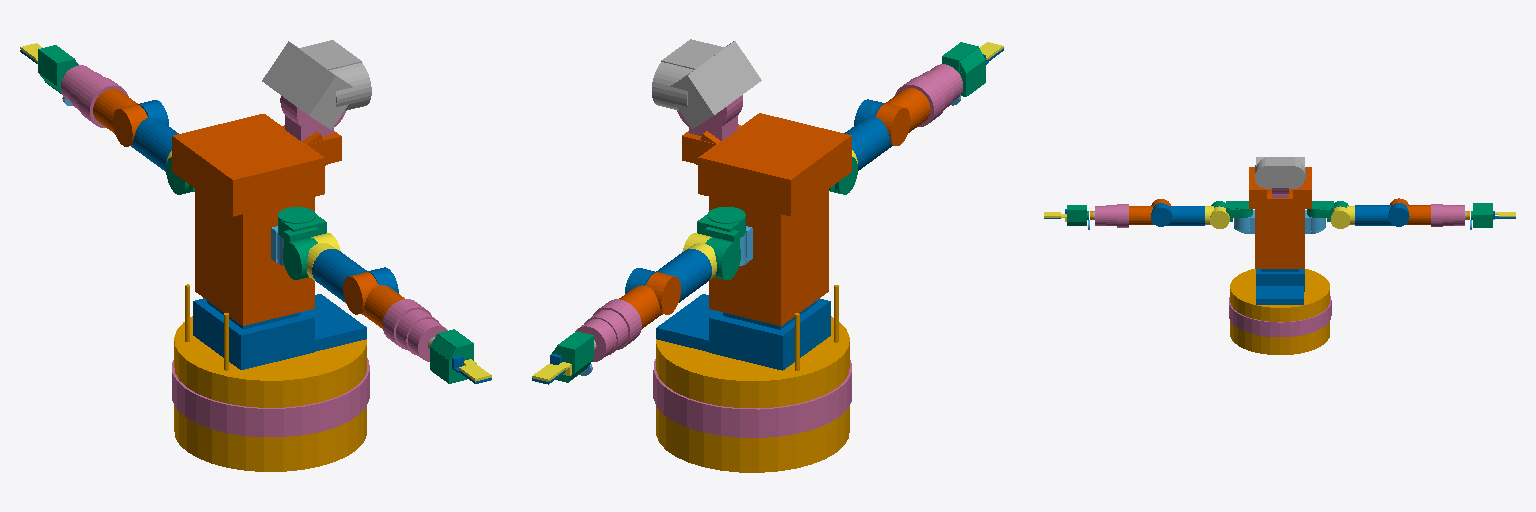
--- What the picture shows (computed from the rendered views, not written in the file) ---
3 views of the same robot in one strip: view 1: azimuth 30°, elevation 25°; view 2: azimuth 150°, elevation 25°; view 3: azimuth 270°, elevation 25° (orthographic).
Model TIAGo++ with 89 links and 88 joints (16 revolute, 10 continuous, 5 prismatic, 57 fixed), rooted at base_link, posed every joint at zero.
Links seen in each view (by area): view 1: torso_lift_link, base_link, Torso, head_2_link, base_cover_link, arm_right_5_link, TIAGo_right_arm, arm_right_4_link, arm_left_4_link, arm_right_3_link, arm_left_3_link, arm_left_5_link (+4 smaller); view 2: torso_lift_link, base_link, Torso, head_2_link, base_cover_link, TIAGo_left_arm, arm_left_5_link, arm_left_4_link, arm_left_3_link, arm_right_4_link, arm_right_3_link, arm_right_5_link (+4 smaller); view 3: base_link, torso_lift_link, Torso, base_cover_link, head_2_link, arm_left_3_link, arm_right_3_link, arm_right_5_link, arm_left_5_link, arm_left_4_link.
Boxes of the visible links, <box> form: torso_lift_link: <box>172,114,341,325</box>; base_link: <box>174,284,366,471</box>; Torso: <box>193,294,366,369</box>; head_2_link: <box>262,40,371,129</box>; base_cover_link: <box>172,358,369,436</box>; arm_right_5_link: <box>383,299,447,361</box>; TIAGo_right_arm: <box>278,207,326,279</box>; arm_right_4_link: <box>343,272,404,328</box>; arm_left_4_link: <box>93,89,147,146</box>; arm_right_3_link: <box>312,249,398,314</box>; arm_left_3_link: <box>131,100,178,171</box>; arm_left_5_link: <box>60,65,128,127</box>; torso_lift_link: <box>682,113,851,325</box>; base_link: <box>656,285,849,472</box>; Torso: <box>656,294,830,370</box>; head_2_link: <box>652,39,761,128</box>; base_cover_link: <box>653,359,851,437</box>; TIAGo_left_arm: <box>697,207,745,279</box>; arm_left_5_link: <box>575,299,641,361</box>; arm_left_4_link: <box>619,272,680,329</box>; arm_left_3_link: <box>625,249,711,314</box>; arm_right_4_link: <box>876,88,930,145</box>; arm_right_3_link: <box>844,99,892,170</box>; arm_right_5_link: <box>895,64,962,126</box>; base_link: <box>1230,269,1329,354</box>; torso_lift_link: <box>1249,167,1311,268</box>; Torso: <box>1256,269,1304,304</box>; base_cover_link: <box>1229,296,1331,336</box>; head_2_link: <box>1255,157,1305,188</box>; arm_left_3_link: <box>1355,203,1409,226</box>; arm_right_3_link: <box>1151,203,1204,226</box>; arm_right_5_link: <box>1095,204,1128,227</box>; arm_left_5_link: <box>1431,204,1464,226</box>; arm_left_4_link: <box>1390,198,1430,224</box>.
Bounding box of the posed robot: 0.544 × 2.49 × 1.12 m (x, y, z).
Geometry: primitives only (box / cylinder / sphere), no mesh files.

The robot description file, URDF, robot "TIAGo++":
<?xml version="1.0"?>
<robot name="TIAGo++" xmlns:xacro="http://ros.org/wiki/xacro">
  <link name="base_link">
    <visual>
      <origin xyz="0 0 0.06" rpy="0 0 0"/>
      <geometry>
        <cylinder radius="0.265" length="0.276"/>
      </geometry>
    </visual>
    <collision>
      <origin xyz="0 0 0.06" rpy="0 0 0"/>
      <geometry>
        <cylinder radius="0.265" length="0.276"/>
      </geometry>
    </collision>
    <visual>
      <origin xyz="-0.201 0.1062 0.28" rpy="0 0 0"/>
      <geometry>
        <cylinder radius="0.007" length="0.173"/>
      </geometry>
    </visual>
    <collision>
      <origin xyz="-0.201 0.1062 0.28" rpy="0 0 0"/>
      <geometry>
        <cylinder radius="0.007" length="0.173"/>
      </geometry>
    </collision>
    <visual>
      <origin xyz="-0.201 -0.1062 0.28" rpy="0 0 0"/>
      <geometry>
        <cylinder radius="0.007" length="0.173"/>
      </geometry>
    </visual>
    <collision>
      <origin xyz="-0.201 -0.1062 0.28" rpy="0 0 0"/>
      <geometry>
        <cylinder radius="0.007" length="0.173"/>
      </geometry>
    </collision>
  </link>
  <joint name="CASTER_WHEEL_BACK_LEFT_JOINT" type="continuous">
    <parent link="base_link"/>
    <child link="caster_back_left_1_link"/>
    <axis xyz="0 0 1"/>
    <origin xyz="-0.1735 0.102 -0.0335" rpy="0 0 0"/>
  </joint>
  <link name="caster_back_left_1_link">
    <visual>
      <origin xyz="-0.003 0 -0.022" rpy="0 0 0"/>
      <geometry>
        <box size="0.036 0.032 0.04"/>
      </geometry>
    </visual>
    <collision>
      <origin xyz="-0.003 0 -0.022" rpy="0 0 0"/>
      <geometry>
        <box size="0.036 0.032 0.04"/>
      </geometry>
    </collision>
  </link>
  <joint name="SMALL_WHEEL_JOINT" type="continuous">
    <parent link="caster_back_left_1_link"/>
    <child link="caster_back_left_2_link"/>
    <axis xyz="0 -0.000004 1"/>
    <origin xyz="-0.016 0 -0.04" rpy="-1.5708 0 0"/>
  </joint>
  <link name="caster_back_left_2_link">
    <visual>
      <origin xyz="0 0 0" rpy="0 0 0"/>
      <geometry>
        <cylinder radius="0.025" length="0.015"/>
      </geometry>
    </visual>
    <collision>
      <origin xyz="0 0 0" rpy="0 0 0"/>
      <geometry>
        <cylinder radius="0.025" length="0.015"/>
      </geometry>
    </collision>
  </link>
  <joint name="CASTER_WHEEL_BACK_RIGHT_JOINT" type="continuous">
    <parent link="base_link"/>
    <child link="caster_back_right_1_link"/>
    <axis xyz="0 0 1"/>
    <origin xyz="-0.1735 -0.102 -0.0335" rpy="0 0 0"/>
  </joint>
  <link name="caster_back_right_1_link">
    <visual>
      <origin xyz="-0.003 0 -0.022" rpy="0 0 0"/>
      <geometry>
        <box size="0.036 0.032 0.04"/>
      </geometry>
    </visual>
    <collision>
      <origin xyz="-0.003 0 -0.022" rpy="0 0 0"/>
      <geometry>
        <box size="0.036 0.032 0.04"/>
      </geometry>
    </collision>
  </link>
  <joint name="SMALL_WHEEL_JOINT_0" type="continuous">
    <parent link="caster_back_right_1_link"/>
    <child link="caster_back_right_2_link"/>
    <axis xyz="0 -0.000004 1"/>
    <origin xyz="-0.016 0 -0.04" rpy="-1.5708 0 0"/>
  </joint>
  <link name="caster_back_right_2_link">
    <visual>
      <origin xyz="0 0 0" rpy="0 0 0"/>
      <geometry>
        <cylinder radius="0.025" length="0.015"/>
      </geometry>
    </visual>
    <collision>
      <origin xyz="0 0 0" rpy="0 0 0"/>
      <geometry>
        <cylinder radius="0.025" length="0.015"/>
      </geometry>
    </collision>
  </link>
  <joint name="CASTER_WHEEL_FRONT_LEFT_JOINT" type="continuous">
    <parent link="base_link"/>
    <child link="caster_front_left_1_link"/>
    <axis xyz="0 0 1"/>
    <origin xyz="0.1695 0.102 -0.0335" rpy="0 0 0"/>
  </joint>
  <link name="caster_front_left_1_link">
    <visual>
      <origin xyz="-0.003 0 -0.022" rpy="0 0 0"/>
      <geometry>
        <box size="0.036 0.032 0.04"/>
      </geometry>
    </visual>
    <collision>
      <origin xyz="-0.003 0 -0.022" rpy="0 0 0"/>
      <geometry>
        <box size="0.036 0.032 0.04"/>
      </geometry>
    </collision>
  </link>
  <joint name="SMALL_WHEEL_JOINT_1" type="continuous">
    <parent link="caster_front_left_1_link"/>
    <child link="caster_front_left_2_link"/>
    <axis xyz="0 -0.000004 1"/>
    <origin xyz="-0.016 0 -0.04" rpy="-1.5708 0 0"/>
  </joint>
  <link name="caster_front_left_2_link">
    <visual>
      <origin xyz="0 0 0" rpy="0 0 0"/>
      <geometry>
        <cylinder radius="0.025" length="0.015"/>
      </geometry>
    </visual>
    <collision>
      <origin xyz="0 0 0" rpy="0 0 0"/>
      <geometry>
        <cylinder radius="0.025" length="0.015"/>
      </geometry>
    </collision>
  </link>
  <joint name="CASTER_WHEEL_FRONT_RIGHT_JOINT" type="continuous">
    <parent link="base_link"/>
    <child link="caster_front_right_1_link"/>
    <axis xyz="0 0 1"/>
    <origin xyz="0.1695 -0.102 -0.0335" rpy="0 0 0"/>
  </joint>
  <link name="caster_front_right_1_link">
    <visual>
      <origin xyz="-0.003 0 -0.022" rpy="0 0 0"/>
      <geometry>
        <box size="0.036 0.032 0.04"/>
      </geometry>
    </visual>
    <collision>
      <origin xyz="-0.003 0 -0.022" rpy="0 0 0"/>
      <geometry>
        <box size="0.036 0.032 0.04"/>
      </geometry>
    </collision>
  </link>
  <joint name="SMALL_WHEEL_JOINT_2" type="continuous">
    <parent link="caster_front_right_1_link"/>
    <child link="caster_front_right_2_link"/>
    <axis xyz="0 -0.000004 1"/>
    <origin xyz="-0.016 0 -0.04" rpy="-1.5708 0 0"/>
  </joint>
  <link name="caster_front_right_2_link">
    <visual>
      <origin xyz="0 0 0" rpy="0 0 0"/>
      <geometry>
        <cylinder radius="0.025" length="0.015"/>
      </geometry>
    </visual>
    <collision>
      <origin xyz="0 0 0" rpy="0 0 0"/>
      <geometry>
        <cylinder radius="0.025" length="0.015"/>
      </geometry>
    </collision>
  </link>
  <joint name="wheel_left_joint" type="continuous">
    <parent link="base_link"/>
    <child link="wheel_left_link"/>
    <axis xyz="0 -0.000004 -1"/>
    <limit effort="10" velocity="10.1523"/>
    <origin xyz="0 0.2022 0" rpy="1.5708 0 0"/>
  </joint>
  <link name="wheel_left_link">
    <visual>
      <origin xyz="0 0 0.0002" rpy="0 0 0"/>
      <geometry>
        <cylinder radius="0.0985" length="0.04"/>
      </geometry>
    </visual>
    <collision>
      <origin xyz="0 0 0.0002" rpy="0 0 0"/>
      <geometry>
        <cylinder radius="0.0985" length="0.04"/>
      </geometry>
    </collision>
  </link>
  <joint name="wheel_right_joint" type="continuous">
    <parent link="base_link"/>
    <child link="wheel_right_link"/>
    <axis xyz="0 -0.000004 -1"/>
    <limit effort="10" velocity="10.1523"/>
    <origin xyz="0 -0.2022 0.0002" rpy="1.5708 0 0"/>
  </joint>
  <link name="wheel_right_link">
    <visual>
      <origin xyz="0 0 -0.0002" rpy="0 0 0"/>
      <geometry>
        <cylinder radius="0.0985" length="0.04"/>
      </geometry>
    </visual>
    <collision>
      <origin xyz="0 0 -0.0002" rpy="0 0 0"/>
      <geometry>
        <cylinder radius="0.0985" length="0.04"/>
      </geometry>
    </collision>
  </link>
  <link name="base_sonar_01_link">
  </link>
  <joint name="base_link_base_sonar_01_link_joint" type="fixed">
    <parent link="base_link"/>
    <child link="base_sonar_01_link"/>
    <origin xyz="-0.183 -0.183 0.1728" rpy="0 0 -2.356185"/>
  </joint>
  <link name="base_sonar_02_link">
  </link>
  <joint name="base_link_base_sonar_02_link_joint" type="fixed">
    <parent link="base_link"/>
    <child link="base_sonar_02_link"/>
    <origin xyz="-0.259 0 0.173" rpy="0 0 -3.141585"/>
  </joint>
  <link name="base_sonar_03_link">
  </link>
  <joint name="base_link_base_sonar_03_link_joint" type="fixed">
    <parent link="base_link"/>
    <child link="base_sonar_03_link"/>
    <origin xyz="-0.183 0.183 0.173" rpy="0 0 2.3562"/>
  </joint>
  <link name="base_cover_link">
    <visual>
      <origin xyz="0 0 0.043" rpy="0 0 0"/>
      <geometry>
        <cylinder radius="0.272" length="0.086"/>
      </geometry>
    </visual>
    <collision>
      <origin xyz="0 0 0.043" rpy="0 0 0"/>
      <geometry>
        <cylinder radius="0.272" length="0.086"/>
      </geometry>
    </collision>
  </link>
  <joint name="base_link_base_cover_link_joint" type="fixed">
    <parent link="base_link"/>
    <child link="base_cover_link"/>
    <origin xyz="0 0 0.03" rpy="0 0 0"/>
  </joint>
  <link name="base_footprint">
  </link>
  <joint name="base_link_base_footprint_joint" type="fixed">
    <parent link="base_link"/>
    <child link="base_footprint"/>
    <origin xyz="0 0 -0.095" rpy="0 0 0"/>
  </joint>
  <link name="gyro">
  </link>
  <joint name="base_link_gyro_joint" type="fixed">
    <parent link="base_link"/>
    <child link="gyro"/>
    <origin xyz="0 0 0" rpy="0 0 0"/>
  </joint>
  <link name="inertial unit">
  </link>
  <joint name="base_link_inertial unit_joint" type="fixed">
    <parent link="base_link"/>
    <child link="inertial unit"/>
    <origin xyz="0 0 0" rpy="0 0 0"/>
  </joint>
  <link name="accelerometer">
  </link>
  <joint name="base_link_accelerometer_joint" type="fixed">
    <parent link="base_link"/>
    <child link="accelerometer"/>
    <origin xyz="0 0 0" rpy="0 0 0"/>
  </joint>
  <link name="Hokuyo URG-04LX-UG01">
    <visual>
      <origin xyz="0 0 -0.018" rpy="1.570741 0.000118 -1.570741"/>
      <geometry>
        <box size="0.05 0.07 0.05"/>
      </geometry>
    </visual>
    <collision>
      <origin xyz="0 0 -0.018" rpy="1.570741 0.000118 -1.570741"/>
      <geometry>
        <box size="0.05 0.07 0.05"/>
      </geometry>
    </collision>
  </link>
  <joint name="base_link_Hokuyo URG-04LX-UG01_joint" type="fixed">
    <parent link="base_link"/>
    <child link="Hokuyo URG-04LX-UG01"/>
    <origin xyz="0.202 0 -0.004" rpy="0 0 0"/>
  </joint>
  <link name="Torso">
    <visual>
      <origin xyz="0 0 0.275" rpy="0 0 0"/>
      <geometry>
        <box size="0.18 0.2 0.55"/>
      </geometry>
    </visual>
    <collision>
      <origin xyz="0 0 0.275" rpy="0 0 0"/>
      <geometry>
        <box size="0.18 0.2 0.55"/>
      </geometry>
    </collision>
    <visual>
      <origin xyz="0.085 0 0.02" rpy="0 0 0"/>
      <geometry>
        <box size="0.4 0.254 0.04"/>
      </geometry>
    </visual>
    <collision>
      <origin xyz="0.085 0 0.02" rpy="0 0 0"/>
      <geometry>
        <box size="0.4 0.254 0.04"/>
      </geometry>
    </collision>
    <visual>
      <origin xyz="0.001 0 0.05" rpy="0 0 0"/>
      <geometry>
        <box size="0.233 0.26 0.12"/>
      </geometry>
    </visual>
    <collision>
      <origin xyz="0.001 0 0.05" rpy="0 0 0"/>
      <geometry>
        <box size="0.233 0.26 0.12"/>
      </geometry>
    </collision>
  </link>
  <joint name="base_link_Torso_joint" type="fixed">
    <parent link="base_link"/>
    <child link="Torso"/>
    <origin xyz="-0.054 0 0.193" rpy="0 0 0"/>
  </joint>
  <joint name="torso_lift_joint" type="prismatic">
    <parent link="Torso"/>
    <child link="torso_lift_link"/>
    <axis xyz="0 0 1"/>
    <origin xyz="0 0 0.6" rpy="0 0 0"/>
    <limit effort="2000" lower="0" upper="0.35" velocity="0.07"/>
  </joint>
  <link name="torso_lift_link">
    <visual>
      <origin xyz="0.164 0 -0.032" rpy="0 0 0"/>
      <geometry>
        <box size="0.15 0.138 0.074"/>
      </geometry>
    </visual>
    <collision>
      <origin xyz="0.164 0 -0.032" rpy="0 0 0"/>
      <geometry>
        <box size="0.15 0.138 0.074"/>
      </geometry>
    </collision>
    <visual>
      <origin xyz="0.1389 0 -0.0432" rpy="0 -0.43 0"/>
      <geometry>
        <box size="0.12 0.134 0.097"/>
      </geometry>
    </visual>
    <collision>
      <origin xyz="0.1389 0 -0.0432" rpy="0 -0.43 0"/>
      <geometry>
        <box size="0.12 0.134 0.097"/>
      </geometry>
    </collision>
    <visual>
      <origin xyz="-0.016 0 -0.05" rpy="0 0 0"/>
      <geometry>
        <box size="0.291 0.333 0.11"/>
      </geometry>
    </visual>
    <collision>
      <origin xyz="-0.016 0 -0.05" rpy="0 0 0"/>
      <geometry>
        <box size="0.291 0.333 0.11"/>
      </geometry>
    </collision>
    <visual>
      <origin xyz="0.003 0 -0.283" rpy="0 0 0"/>
      <geometry>
        <box size="0.228 0.263 0.358"/>
      </geometry>
    </visual>
    <collision>
      <origin xyz="0.003 0 -0.283" rpy="0 0 0"/>
      <geometry>
        <box size="0.228 0.263 0.358"/>
      </geometry>
    </collision>
  </link>
  <joint name="head_1_joint" type="revolute">
    <parent link="torso_lift_link"/>
    <child link="head_1_link"/>
    <axis xyz="0 0 1"/>
    <limit effort="5.197" lower="-1.24" upper="1.24" velocity="3"/>
    <origin xyz="0.182 0 0" rpy="0 0 0"/>
  </joint>
  <link name="head_1_link">
    <visual>
      <origin xyz="0.01 0 0.097" rpy="-1.5708 0 0"/>
      <geometry>
        <cylinder radius="0.082" length="0.09"/>
      </geometry>
    </visual>
    <collision>
      <origin xyz="0.01 0 0.097" rpy="-1.5708 0 0"/>
      <geometry>
        <cylinder radius="0.082" length="0.09"/>
      </geometry>
    </collision>
    <visual>
      <origin xyz="-0.005 0 0.005" rpy="0 0 0"/>
      <geometry>
        <box size="0.103 0.088 0.103"/>
      </geometry>
    </visual>
    <collision>
      <origin xyz="-0.005 0 0.005" rpy="0 0 0"/>
      <geometry>
        <box size="0.103 0.088 0.103"/>
      </geometry>
    </collision>
  </link>
  <joint name="head_2_joint" type="revolute">
    <parent link="head_1_link"/>
    <child link="head_2_link"/>
    <axis xyz="0 0.000004 1"/>
    <limit effort="2.77" lower="-0.98" upper="0.79" velocity="3"/>
    <origin xyz="0.005 0 0.098" rpy="1.5708 0 0"/>
  </joint>
  <link name="head_2_link">
    <visual>
      <origin xyz="-0.009 0.0466 0" rpy="0 0 -0.7"/>
      <geometry>
        <box size="0.092 0.132 0.26"/>
      </geometry>
    </visual>
    <collision>
      <origin xyz="-0.009 0.0466 0" rpy="0 0 -0.7"/>
      <geometry>
        <box size="0.092 0.132 0.26"/>
      </geometry>
    </collision>
    <visual>
      <origin xyz="0.008 -0.019 0" rpy="0 0 -1.5708"/>
      <geometry>
        <cylinder radius="0.03" length="0.132"/>
      </geometry>
    </visual>
    <collision>
      <origin xyz="0.008 -0.019 0" rpy="0 0 -1.5708"/>
      <geometry>
        <cylinder radius="0.03" length="0.132"/>
      </geometry>
    </collision>
    <visual>
      <origin xyz="0.054 0.06 0" rpy="0 0 0"/>
      <geometry>
        <box size="0.111 0.13 0.16"/>
      </geometry>
    </visual>
    <collision>
      <origin xyz="0.054 0.06 0" rpy="0 0 0"/>
      <geometry>
        <box size="0.111 0.13 0.16"/>
      </geometry>
    </collision>
    <visual>
      <origin xyz="0.053 0.056 -0.068" rpy="3.141593 -1.570793 3.141593"/>
      <geometry>
        <cylinder radius="0.0667" length="0.111"/>
      </geometry>
    </visual>
    <collision>
      <origin xyz="0.053 0.056 -0.068" rpy="3.141593 -1.570793 3.141593"/>
      <geometry>
        <cylinder radius="0.0667" length="0.111"/>
      </geometry>
    </collision>
    <visual>
      <origin xyz="0.053 0.056 0.068" rpy="3.141593 -1.570793 3.141593"/>
      <geometry>
        <cylinder radius="0.0667" length="0.111"/>
      </geometry>
    </visual>
    <collision>
      <origin xyz="0.053 0.056 0.068" rpy="3.141593 -1.570793 3.141593"/>
      <geometry>
        <cylinder radius="0.0667" length="0.111"/>
      </geometry>
    </collision>
  </link>
  <link name="ts_emitter">
  </link>
  <joint name="head_2_link_ts_emitter_joint" type="fixed">
    <parent link="head_2_link"/>
    <child link="ts_emitter"/>
    <origin xyz="0.107 0.0802 0" rpy="0 0 0"/>
  </joint>
  <link name="TIAGo left arm">
    <visual>
      <origin xyz="0.026 0.14 -0.232" rpy="0 0 1.5708"/>
      <geometry>
        <box size="0.042 0.094 0.094"/>
      </geometry>
    </visual>
    <collision>
      <origin xyz="0.026 0.14 -0.232" rpy="0 0 1.5708"/>
      <geometry>
        <box size="0.042 0.094 0.094"/>
      </geometry>
    </collision>
    <visual>
      <origin xyz="0.0256 0.1868 -0.2661" rpy="0.000017 -0.261844 1.570779"/>
      <geometry>
        <cylinder radius="0.053" length="0.016"/>
      </geometry>
    </visual>
    <collision>
      <origin xyz="0.0256 0.1868 -0.2661" rpy="0.000017 -0.261844 1.570779"/>
      <geometry>
        <cylinder radius="0.053" length="0.016"/>
      </geometry>
    </collision>
    <visual>
      <origin xyz="0.026 0.19 -0.221" rpy="0 0 0"/>
      <geometry>
        <cylinder radius="0.053" length="0.075"/>
      </geometry>
    </visual>
    <collision>
      <origin xyz="0.026 0.19 -0.221" rpy="0 0 0"/>
      <geometry>
        <cylinder radius="0.053" length="0.075"/>
      </geometry>
    </collision>
  </link>
  <joint name="torso_lift_link_TIAGo left arm_joint" type="fixed">
    <parent link="torso_lift_link"/>
    <child link="TIAGo left arm"/>
    <origin xyz="0 0 0" rpy="0 0 0"/>
  </joint>
  <joint name="arm_left_1_joint" type="revolute">
    <parent link="TIAGo left arm"/>
    <child link="TIAGo_left_arm"/>
    <axis xyz="0 0 -1"/>
    <limit effort="43" lower="-1.11" upper="1.5" velocity="1.95"/>
    <origin xyz="0.025 0.194 -0.16" rpy="0 0 1.5708"/>
  </joint>
  <link name="TIAGo_left_arm">
    <visual>
      <origin xyz="0 -0.0001 0.002" rpy="0 0 0"/>
      <geometry>
        <cylinder radius="0.0522" length="0.052"/>
      </geometry>
    </visual>
    <collision>
      <origin xyz="0 -0.0001 0.002" rpy="0 0 0"/>
      <geometry>
        <cylinder radius="0.0522" length="0.052"/>
      </geometry>
    </collision>
    <visual>
      <origin xyz="0.033 0.0009 0.001" rpy="0 0 0"/>
      <geometry>
        <box size="0.08 0.1044 0.048"/>
      </geometry>
    </visual>
    <collision>
      <origin xyz="0.033 0.0009 0.001" rpy="0 0 0"/>
      <geometry>
        <box size="0.08 0.1044 0.048"/>
      </geometry>
    </collision>
    <visual>
      <origin xyz="0.072 0.0289 -0.023" rpy="0 0 0"/>
      <geometry>
        <box size="0.035 0.09 0.081"/>
      </geometry>
    </visual>
    <collision>
      <origin xyz="0.072 0.0289 -0.023" rpy="0 0 0"/>
      <geometry>
        <box size="0.035 0.09 0.081"/>
      </geometry>
    </collision>
    <visual>
      <origin xyz="0.125 0.0529 -0.042" rpy="-1.5708 0 0"/>
      <geometry>
        <cylinder radius="0.053" length="0.069"/>
      </geometry>
    </visual>
    <collision>
      <origin xyz="0.125 0.0529 -0.042" rpy="-1.5708 0 0"/>
      <geometry>
        <cylinder radius="0.053" length="0.069"/>
      </geometry>
    </collision>
  </link>
  <joint name="arm_left_2_joint" type="revolute">
    <parent link="TIAGo_left_arm"/>
    <child link="arm_left_2_link"/>
    <axis xyz="0 -0.000004 -1"/>
    <limit effort="43" lower="-1.11" upper="1.5" velocity="1.95"/>
    <origin xyz="0.125 0.0194 -0.042" rpy="1.5708 0 0"/>
  </joint>
  <link name="arm_left_2_link">
    <visual>
      <origin xyz="0.056 0 -0.0005" rpy="3.141593 1.570793 3.141593"/>
      <geometry>
        <cylinder radius="0.052" length="0.048"/>
      </geometry>
    </visual>
    <collision>
      <origin xyz="0.056 0 -0.0005" rpy="3.141593 1.570793 3.141593"/>
      <geometry>
        <cylinder radius="0.052" length="0.048"/>
      </geometry>
    </collision>
    <visual>
      <origin xyz="0 0 0.0295" rpy="0 0 0"/>
      <geometry>
        <cylinder radius="0.053" length="0.057"/>
      </geometry>
    </visual>
    <collision>
      <origin xyz="0 0 0.0295" rpy="0 0 0"/>
      <geometry>
        <cylinder radius="0.053" length="0.057"/>
      </geometry>
    </collision>
  </link>
  <joint name="arm_left_3_joint" type="revolute">
    <parent link="arm_left_2_link"/>
    <child link="arm_left_3_link"/>
    <axis xyz="-0.000061 -0.000061 -1"/>
    <limit effort="26" lower="-0.72" upper="3.86" velocity="2.35"/>
    <origin xyz="0.0895 0 0" rpy="1.570857 -0.000113 -1.570857"/>
  </joint>
  <link name="arm_left_3_link">
    <visual>
      <origin xyz="0 0 -0.1037" rpy="0 0 0"/>
      <geometry>
        <cylinder radius="0.053" length="0.23"/>
      </geometry>
    </visual>
    <collision>
      <origin xyz="0 0 -0.1037" rpy="0 0 0"/>
      <geometry>
        <cylinder radius="0.053" length="0.23"/>
      </geometry>
    </collision>
    <visual>
      <origin xyz="-0.0169 0.03 -0.2187" rpy="-1.5708 0 0"/>
      <geometry>
        <cylinder radius="0.056" length="0.056"/>
      </geometry>
    </visual>
    <collision>
      <origin xyz="-0.0169 0.03 -0.2187" rpy="-1.5708 0 0"/>
      <geometry>
        <cylinder radius="0.056" length="0.056"/>
      </geometry>
    </collision>
  </link>
  <joint name="arm_left_4_joint" type="revolute">
    <parent link="arm_left_3_link"/>
    <child link="arm_left_4_link"/>
    <axis xyz="0.000003 -0.000003 1"/>
    <limit effort="26" lower="-0.32" upper="2.29" velocity="2.35"/>
    <origin xyz="-0.02 -0.027 -0.2197" rpy="2.356193 -1.570792 2.356193"/>
  </joint>
  <link name="arm_left_4_link">
    <visual>
      <origin xyz="0 0.001 -0.002" rpy="0 0 0"/>
      <geometry>
        <cylinder radius="0.054" length="0.056"/>
      </geometry>
    </visual>
    <collision>
      <origin xyz="0 0.001 -0.002" rpy="0 0 0"/>
      <geometry>
        <cylinder radius="0.054" length="0.056"/>
      </geometry>
    </collision>
    <visual>
      <origin xyz="-0.093 0.019 0.027" rpy="3.141593 -1.570793 3.141593"/>
      <geometry>
        <cylinder radius="0.052" length="0.191"/>
      </geometry>
    </visual>
    <collision>
      <origin xyz="-0.093 0.019 0.027" rpy="3.141593 -1.570793 3.141593"/>
      <geometry>
        <cylinder radius="0.052" length="0.191"/>
      </geometry>
    </collision>
  </link>
  <joint name="arm_left_5_joint" type="revolute">
    <parent link="arm_left_4_link"/>
    <child link="arm_left_5_link"/>
    <axis xyz="-0.000004 0 -1"/>
    <limit effort="3" lower="-2.07" upper="2.07" velocity="1.95"/>
    <origin xyz="-0.162 0.02 0.027" rpy="3.141593 -1.570793 3.141593"/>
  </joint>
  <link name="arm_left_5_link">
    <visual>
      <origin xyz="0 0 0.04" rpy="0 0 0"/>
      <geometry>
        <cylinder radius="0.063" length="0.062"/>
      </geometry>
    </visual>
    <collision>
      <origin xyz="0 0 0.04" rpy="0 0 0"/>
      <geometry>
        <cylinder radius="0.063" length="0.062"/>
      </geometry>
    </collision>
    <visual>
      <origin xyz="0 0 0.099" rpy="0 0 0"/>
      <geometry>
        <cylinder radius="0.057" length="0.06"/>
      </geometry>
    </visual>
    <collision>
      <origin xyz="0 0 0.099" rpy="0 0 0"/>
      <geometry>
        <cylinder radius="0.057" length="0.06"/>
      </geometry>
    </collision>
    <visual>
      <origin xyz="0 0 0.156" rpy="0 0 0"/>
      <geometry>
        <cylinder radius="0.053" length="0.06"/>
      </geometry>
    </visual>
    <collision>
      <origin xyz="0 0 0.156" rpy="0 0 0"/>
      <geometry>
        <cylinder radius="0.053" length="0.06"/>
      </geometry>
    </collision>
  </link>
  <joint name="arm_left_6_joint" type="revolute">
    <parent link="arm_left_5_link"/>
    <child link="arm_left_6_link"/>
    <axis xyz="-0.000003 0.000003 -1"/>
    <limit effort="6.6" lower="-1.39" upper="1.39" velocity="1.76"/>
    <origin xyz="0 0 0.15" rpy="2.356193 -1.570792 2.356193"/>
  </joint>
  <link name="arm_left_6_link">
    <visual>
      <origin xyz="0.0409 0 0" rpy="3.141593 -1.570793 3.141593"/>
      <geometry>
        <cylinder radius="0.0226" length="0.013"/>
      </geometry>
    </visual>
    <collision>
      <origin xyz="0.0409 0 0" rpy="3.141593 -1.570793 3.141593"/>
      <geometry>
        <cylinder radius="0.0226" length="0.013"/>
      </geometry>
    </collision>
  </link>
  <joint name="arm_left_7_joint" type="revolute">
    <parent link="arm_left_6_link"/>
    <child link="arm_left_7_link"/>
    <axis xyz="0.000003 -0.000003 -1"/>
    <limit effort="6.6" lower="-2.07" upper="2.07" velocity="1.76"/>
    <origin xyz="0 0 0" rpy="1.570799 -0.000003 1.570799"/>
  </joint>
  <link name="arm_left_7_link">
    <visual>
      <origin xyz="0 0 0.055" rpy="0 0 0"/>
      <geometry>
        <cylinder radius="0.0225" length="0.0157"/>
      </geometry>
    </visual>
    <collision>
      <origin xyz="0 0 0.055" rpy="0 0 0"/>
      <geometry>
        <cylinder radius="0.0225" length="0.0157"/>
      </geometry>
    </collision>
  </link>
  <link name="wrist_left_ft_tool_link">
    <visual>
      <origin xyz="0 0 0.055" rpy="3.141593 -1.570793 3.141593"/>
      <geometry>
        <cylinder radius="0.0253" length="0.011"/>
      </geometry>
    </visual>
    <collision>
      <origin xyz="0 0 0.055" rpy="3.141593 -1.570793 3.141593"/>
      <geometry>
        <cylinder radius="0.0253" length="0.011"/>
      </geometry>
    </collision>
  </link>
  <joint name="arm_left_7_link_wrist_left_ft_tool_link_joint" type="fixed">
    <parent link="arm_left_7_link"/>
    <child link="wrist_left_ft_tool_link"/>
    <origin xyz="0 0 0.067725" rpy="2.356193 -1.570792 2.356193"/>
  </joint>
  <link name="left">
    <visual>
      <origin xyz="0 0 0" rpy="0 0 0"/>
      <geometry>
        <cylinder radius="0.0227" length="0.028"/>
      </geometry>
    </visual>
    <collision>
      <origin xyz="0 0 0" rpy="0 0 0"/>
      <geometry>
        <cylinder radius="0.0227" length="0.028"/>
      </geometry>
    </collision>
    <visual>
      <origin xyz="0.029 -0.01834 -0.046" rpy="0 0 0.59"/>
      <geometry>
        <box size="0.04 0.0217 0.105"/>
      </geometry>
    </visual>
    <collision>
      <origin xyz="0.029 -0.01834 -0.046" rpy="0 0 0.59"/>
      <geometry>
        <box size="0.04 0.0217 0.105"/>
      </geometry>
    </collision>
    <visual>
      <origin xyz="-0.029 0.01834 -0.046" rpy="0 0 0.59"/>
      <geometry>
        <box size="0.04 0.0217 0.105"/>
      </geometry>
    </visual>
    <collision>
      <origin xyz="-0.029 0.01834 -0.046" rpy="0 0 0.59"/>
      <geometry>
        <box size="0.04 0.0217 0.105"/>
      </geometry>
    </collision>
    <visual>
      <origin xyz="0.0172 0.0109 -0.046" rpy="3.141593 -1.570793 3.141593"/>
      <geometry>
        <box size="0.106 0.056 0.071"/>
      </geometry>
    </visual>
    <collision>
      <origin xyz="0.0172 0.0109 -0.046" rpy="3.141593 -1.570793 3.141593"/>
      <geometry>
        <box size="0.106 0.056 0.071"/>
      </geometry>
    </collision>
    <visual>
      <origin xyz="-0.0172 -0.0109 -0.046" rpy="3.141593 -1.570793 3.141593"/>
      <geometry>
        <box size="0.106 0.056 0.071"/>
      </geometry>
    </visual>
    <collision>
      <origin xyz="-0.0172 -0.0109 -0.046" rpy="3.141593 -1.570793 3.141593"/>
      <geometry>
        <box size="0.106 0.056 0.071"/>
      </geometry>
    </collision>
  </link>
  <joint name="wrist_left_ft_tool_link_left_joint" type="fixed">
    <parent link="wrist_left_ft_tool_link"/>
    <child link="left"/>
    <origin xyz="0.016 0 0" rpy="-2.356193 1.570792 0.785393"/>
  </joint>
  <joint name="left_hand_gripper_finger_joint::right" type="prismatic">
    <parent link="left"/>
    <child link="gripper_right_finger_link"/>
    <axis xyz="1 0 0"/>
    <origin xyz="0 0 0" rpy="0 0 0"/>
    <limit effort="16" lower="0" upper="0.045" velocity="0.05"/>
  </joint>
  <link name="gripper_right_finger_link">
    <visual>
      <origin xyz="0.004 0 -0.1741" rpy="0 0 0"/>
      <geometry>
        <box size="0.0076 0.05091 0.08982"/>
      </geometry>
    </visual>
    <collision>
      <origin xyz="0.004 0 -0.1741" rpy="0 0 0"/>
      <geometry>
        <box size="0.0076 0.05091 0.08982"/>
      </geometry>
    </collision>
    <visual>
      <origin xyz="0.0049 0.0153 -0.1208" rpy="0 0 0"/>
      <geometry>
        <box size="0.0055 0.0295 0.018"/>
      </geometry>
    </visual>
    <collision>
      <origin xyz="0.0049 0.0153 -0.1208" rpy="0 0 0"/>
      <geometry>
        <box size="0.0055 0.0295 0.018"/>
      </geometry>
    </collision>
    <visual>
      <origin xyz="-0.0085 0.0156 -0.1048" rpy="0 0 0"/>
      <geometry>
        <box size="0.03213 0.02959 0.01487"/>
      </geometry>
    </visual>
    <collision>
      <origin xyz="-0.0085 0.0156 -0.1048" rpy="0 0 0"/>
      <geometry>
        <box size="0.03213 0.02959 0.01487"/>
      </geometry>
    </collision>
  </link>
  <joint name="left_hand_gripper_finger_joint::left" type="prismatic">
    <parent link="left"/>
    <child link="gripper_left_finger_link"/>
    <axis xyz="1 0.000093 0"/>
    <origin xyz="0 0 0" rpy="0 0 3.1415"/>
    <limit effort="16" lower="0" upper="0.045" velocity="0.05"/>
  </joint>
  <link name="gripper_left_finger_link">
    <visual>
      <origin xyz="0.004 0 -0.1741" rpy="0 0 0"/>
      <geometry>
        <box size="0.0076 0.05091 0.08982"/>
      </geometry>
    </visual>
    <collision>
      <origin xyz="0.004 0 -0.1741" rpy="0 0 0"/>
      <geometry>
        <box size="0.0076 0.05091 0.08982"/>
      </geometry>
    </collision>
    <visual>
      <origin xyz="0.0049 0.0153 -0.1208" rpy="0 0 0"/>
      <geometry>
        <box size="0.0055 0.0295 0.018"/>
      </geometry>
    </visual>
    <collision>
      <origin xyz="0.0049 0.0153 -0.1208" rpy="0 0 0"/>
      <geometry>
        <box size="0.0055 0.0295 0.018"/>
      </geometry>
    </collision>
    <visual>
      <origin xyz="-0.0085 0.0156 -0.1048" rpy="0 0 0"/>
      <geometry>
        <box size="0.03213 0.02959 0.01487"/>
      </geometry>
    </visual>
    <collision>
      <origin xyz="-0.0085 0.0156 -0.1048" rpy="0 0 0"/>
      <geometry>
        <box size="0.03213 0.02959 0.01487"/>
      </geometry>
    </collision>
  </link>
  <link name="cap screw(19)">
  </link>
  <joint name="left_cap screw(19)_joint" type="fixed">
    <parent link="left"/>
    <child link="cap screw(19)"/>
    <origin xyz="0.0415 -0.0029 -0.0004" rpy="3.14159 0 0"/>
  </joint>
  <link name="cap screw(18)">
  </link>
  <joint name="left_cap screw(18)_joint" type="fixed">
    <parent link="left"/>
    <child link="cap screw(18)"/>
    <origin xyz="-0.0415 0.0029 -0.0004" rpy="3.14159 0 0"/>
  </joint>
  <link name="cap screw(17)">
  </link>
  <joint name="left_cap screw(17)_joint" type="fixed">
    <parent link="left"/>
    <child link="cap screw(17)"/>
    <origin xyz="0.0433 0.0315 0.0026" rpy="3.14159 0 0"/>
  </joint>
  <link name="cap screw(16)">
  </link>
  <joint name="left_cap screw(16)_joint" type="fixed">
    <parent link="left"/>
    <child link="cap screw(16)"/>
    <origin xyz="-0.0433 -0.0315 0.0026" rpy="3.14159 0 0"/>
  </joint>
  <link name="cap screw(15)">
  </link>
  <joint name="left_cap screw(15)_joint" type="fixed">
    <parent link="left"/>
    <child link="cap screw(15)"/>
    <origin xyz="0 0.033 0.0026" rpy="3.14159 0 0"/>
  </joint>
  <link name="cap screw(14)">
  </link>
  <joint name="left_cap screw(14)_joint" type="fixed">
    <parent link="left"/>
    <child link="cap screw(14)"/>
    <origin xyz="0 -0.033 0.0026" rpy="3.14159 0 0"/>
  </joint>
  <link name="cap screw(13)">
  </link>
  <joint name="left_cap screw(13)_joint" type="fixed">
    <parent link="left"/>
    <child link="cap screw(13)"/>
    <origin xyz="0.0426 -0.0094 -0.09448" rpy="0 0 0"/>
  </joint>
  <link name="cap screw(12)">
  </link>
  <joint name="left_cap screw(12)_joint" type="fixed">
    <parent link="left"/>
    <child link="cap screw(12)"/>
    <origin xyz="-0.0425 0.0094 -0.0945" rpy="0 0 0"/>
  </joint>
  <link name="cap screw(11)">
  </link>
  <joint name="left_cap screw(11)_joint" type="fixed">
    <parent link="left"/>
    <child link="cap screw(11)"/>
    <origin xyz="-0.0477 -0.008 -0.0108" rpy="3.141593 1.570793 3.141593"/>
  </joint>
  <link name="cap screw(10)">
  </link>
  <joint name="left_cap screw(10)_joint" type="fixed">
    <parent link="left"/>
    <child link="cap screw(10)"/>
    <origin xyz="-0.0477 -0.008 -0.043" rpy="3.141593 1.570793 3.141593"/>
  </joint>
  <link name="cap screw(9)">
  </link>
  <joint name="left_cap screw(9)_joint" type="fixed">
    <parent link="left"/>
    <child link="cap screw(9)"/>
    <origin xyz="-0.0477 -0.008 -0.075" rpy="3.141593 1.570793 3.141593"/>
  </joint>
  <link name="cap screw(8)">
  </link>
  <joint name="left_cap screw(8)_joint" type="fixed">
    <parent link="left"/>
    <child link="cap screw(8)"/>
    <origin xyz="-0.0477 0.008 -0.075" rpy="3.141593 1.570793 3.141593"/>
  </joint>
  <link name="cap screw(7)">
  </link>
  <joint name="left_cap screw(7)_joint" type="fixed">
    <parent link="left"/>
    <child link="cap screw(7)"/>
    <origin xyz="-0.0477 0.008 -0.043" rpy="3.141593 1.570793 3.141593"/>
  </joint>
  <link name="cap screw(6)">
  </link>
  <joint name="left_cap screw(6)_joint" type="fixed">
    <parent link="left"/>
    <child link="cap screw(6)"/>
    <origin xyz="-0.0477 0.008 -0.0108" rpy="3.141593 1.570793 3.141593"/>
  </joint>
  <link name="cap screw(5)">
  </link>
  <joint name="left_cap screw(5)_joint" type="fixed">
    <parent link="left"/>
    <child link="cap screw(5)"/>
    <origin xyz="0.0477 -0.008 -0.0108" rpy="3.141593 -1.570793 3.141593"/>
  </joint>
  <link name="cap screw(4)">
  </link>
  <joint name="left_cap screw(4)_joint" type="fixed">
    <parent link="left"/>
    <child link="cap screw(4)"/>
    <origin xyz="0.0477 -0.008 -0.043" rpy="3.141593 -1.570793 3.141593"/>
  </joint>
  <link name="cap screw(3)">
  </link>
  <joint name="left_cap screw(3)_joint" type="fixed">
    <parent link="left"/>
    <child link="cap screw(3)"/>
    <origin xyz="0.0477 -0.008 -0.075" rpy="3.141593 -1.570793 3.141593"/>
  </joint>
  <link name="cap screw(2)">
  </link>
  <joint name="left_cap screw(2)_joint" type="fixed">
    <parent link="left"/>
    <child link="cap screw(2)"/>
    <origin xyz="0.0477 0.008 -0.075" rpy="3.141593 -1.570793 3.141593"/>
  </joint>
  <link name="cap screw(1)">
  </link>
  <joint name="left_cap screw(1)_joint" type="fixed">
    <parent link="left"/>
    <child link="cap screw(1)"/>
    <origin xyz="0.0477 0.008 -0.043" rpy="3.141593 -1.570793 3.141593"/>
  </joint>
  <link name="cap screw">
  </link>
  <joint name="left_cap screw_joint" type="fixed">
    <parent link="left"/>
    <child link="cap screw"/>
    <origin xyz="0.0477 0.008 -0.0108" rpy="3.141593 -1.570793 3.141593"/>
  </joint>
  <link name="TIAGo right arm">
    <visual>
      <origin xyz="0.026 -0.14 -0.232" rpy="0 0 1.5708"/>
      <geometry>
        <box size="0.042 0.094 0.094"/>
      </geometry>
    </visual>
    <collision>
      <origin xyz="0.026 -0.14 -0.232" rpy="0 0 1.5708"/>
      <geometry>
        <box size="0.042 0.094 0.094"/>
      </geometry>
    </collision>
    <visual>
      <origin xyz="0.0256 -0.1917 -0.2641" rpy="-0.000009 0.261798 1.570805"/>
      <geometry>
        <cylinder radius="0.053" length="0.016"/>
      </geometry>
    </visual>
    <collision>
      <origin xyz="0.0256 -0.1917 -0.2641" rpy="-0.000009 0.261798 1.570805"/>
      <geometry>
        <cylinder radius="0.053" length="0.016"/>
      </geometry>
    </collision>
    <visual>
      <origin xyz="0.026 -0.189 -0.221" rpy="0 0 0"/>
      <geometry>
        <cylinder radius="0.053" length="0.075"/>
      </geometry>
    </visual>
    <collision>
      <origin xyz="0.026 -0.189 -0.221" rpy="0 0 0"/>
      <geometry>
        <cylinder radius="0.053" length="0.075"/>
      </geometry>
    </collision>
  </link>
  <joint name="torso_lift_link_TIAGo right arm_joint" type="fixed">
    <parent link="torso_lift_link"/>
    <child link="TIAGo right arm"/>
    <origin xyz="0 0 0" rpy="0 0 0.000005"/>
  </joint>
  <joint name="arm_right_1_joint" type="revolute">
    <parent link="TIAGo right arm"/>
    <child link="TIAGo_right_arm"/>
    <axis xyz="0 0 1"/>
    <limit effort="43" lower="-1.11" upper="1.5" velocity="1.95"/>
    <origin xyz="0.025 -0.194 -0.17" rpy="0 0 1.5708"/>
  </joint>
  <link name="TIAGo_right_arm">
    <visual>
      <origin xyz="0 -0.0001 0.012" rpy="0 0 0"/>
      <geometry>
        <cylinder radius="0.0522" length="0.052"/>
      </geometry>
    </visual>
    <collision>
      <origin xyz="0 -0.0001 0.012" rpy="0 0 0"/>
      <geometry>
        <cylinder radius="0.0522" length="0.052"/>
      </geometry>
    </collision>
    <visual>
      <origin xyz="-0.033 0.0009 0.011" rpy="0 0 0"/>
      <geometry>
        <box size="0.08 0.1044 0.048"/>
      </geometry>
    </visual>
    <collision>
      <origin xyz="-0.033 0.0009 0.011" rpy="0 0 0"/>
      <geometry>
        <box size="0.08 0.1044 0.048"/>
      </geometry>
    </collision>
    <visual>
      <origin xyz="-0.072 0.0289 -0.013" rpy="0 0 0"/>
      <geometry>
        <box size="0.035 0.09 0.081"/>
      </geometry>
    </visual>
    <collision>
      <origin xyz="-0.072 0.0289 -0.013" rpy="0 0 0"/>
      <geometry>
        <box size="0.035 0.09 0.081"/>
      </geometry>
    </collision>
    <visual>
      <origin xyz="-0.125 0.0529 -0.032" rpy="-1.5708 0 0"/>
      <geometry>
        <cylinder radius="0.053" length="0.069"/>
      </geometry>
    </visual>
    <collision>
      <origin xyz="-0.125 0.0529 -0.032" rpy="-1.5708 0 0"/>
      <geometry>
        <cylinder radius="0.053" length="0.069"/>
      </geometry>
    </collision>
  </link>
  <joint name="arm_right_2_joint" type="revolute">
    <parent link="TIAGo_right_arm"/>
    <child link="arm_right_2_link"/>
    <axis xyz="0 0.000004 1"/>
    <limit effort="43" lower="-1.11" upper="1.5" velocity="1.95"/>
    <origin xyz="-0.125 0.0194 -0.032" rpy="1.5708 0 0"/>
  </joint>
  <link name="arm_right_2_link">
    <visual>
      <origin xyz="-0.056 0 -0.0005" rpy="3.141593 -1.570793 3.141593"/>
      <geometry>
        <cylinder radius="0.052" length="0.048"/>
      </geometry>
    </visual>
    <collision>
      <origin xyz="-0.056 0 -0.0005" rpy="3.141593 -1.570793 3.141593"/>
      <geometry>
        <cylinder radius="0.052" length="0.048"/>
      </geometry>
    </collision>
    <visual>
      <origin xyz="0 0 0.0295" rpy="0 0 0"/>
      <geometry>
        <cylinder radius="0.053" length="0.057"/>
      </geometry>
    </visual>
    <collision>
      <origin xyz="0 0 0.0295" rpy="0 0 0"/>
      <geometry>
        <cylinder radius="0.053" length="0.057"/>
      </geometry>
    </collision>
  </link>
  <joint name="arm_right_3_joint" type="revolute">
    <parent link="arm_right_2_link"/>
    <child link="arm_right_3_link"/>
    <axis xyz="-0.000003 0.000003 1"/>
    <limit effort="26" lower="-0.72" upper="3.86" velocity="2.35"/>
    <origin xyz="0.0895 0 0" rpy="1.570799 -0.000003 1.570799"/>
  </joint>
  <link name="arm_right_3_link">
    <visual>
      <origin xyz="0.000001 0.0015 -0.2821" rpy="0 0 0"/>
      <geometry>
        <cylinder radius="0.053" length="0.23"/>
      </geometry>
    </visual>
    <collision>
      <origin xyz="0.000001 0.0015 -0.2821" rpy="0 0 0"/>
      <geometry>
        <cylinder radius="0.053" length="0.23"/>
      </geometry>
    </collision>
    <visual>
      <origin xyz="0.016901 0.0315 -0.3971" rpy="-1.5708 0 0"/>
      <geometry>
        <cylinder radius="0.056" length="0.056"/>
      </geometry>
    </visual>
    <collision>
      <origin xyz="0.016901 0.0315 -0.3971" rpy="-1.5708 0 0"/>
      <geometry>
        <cylinder radius="0.056" length="0.056"/>
      </geometry>
    </collision>
  </link>
  <joint name="arm_right_4_joint" type="revolute">
    <parent link="arm_right_3_link"/>
    <child link="arm_right_4_link"/>
    <axis xyz="0.000003 0.000003 -1"/>
    <limit effort="26" lower="-0.32" upper="2.29" velocity="2.35"/>
    <origin xyz="0.020001 0.0015 -0.3991" rpy="2.356193 1.570792 -2.356193"/>
  </joint>
  <link name="arm_right_4_link">
    <visual>
      <origin xyz="0 0.001 -0.028" rpy="0 0 0"/>
      <geometry>
        <cylinder radius="0.054" length="0.056"/>
      </geometry>
    </visual>
    <collision>
      <origin xyz="0 0.001 -0.028" rpy="0 0 0"/>
      <geometry>
        <cylinder radius="0.054" length="0.056"/>
      </geometry>
    </collision>
    <visual>
      <origin xyz="0.093 0.019 0.001" rpy="3.141593 -1.570793 3.141593"/>
      <geometry>
        <cylinder radius="0.052" length="0.191"/>
      </geometry>
    </visual>
    <collision>
      <origin xyz="0.093 0.019 0.001" rpy="3.141593 -1.570793 3.141593"/>
      <geometry>
        <cylinder radius="0.052" length="0.191"/>
      </geometry>
    </collision>
  </link>
  <joint name="arm_right_5_joint" type="revolute">
    <parent link="arm_right_4_link"/>
    <child link="arm_right_5_link"/>
    <axis xyz="0 0.000005 1"/>
    <limit effort="3" lower="-2.07" upper="2.07" velocity="1.95"/>
    <origin xyz="0.163 0.02 0.001" rpy="-1.570794 -1.570791 -1.570794"/>
  </joint>
  <link name="arm_right_5_link">
    <visual>
      <origin xyz="0 0 0.04" rpy="0 0 0"/>
      <geometry>
        <cylinder radius="0.063" length="0.062"/>
      </geometry>
    </visual>
    <collision>
      <origin xyz="0 0 0.04" rpy="0 0 0"/>
      <geometry>
        <cylinder radius="0.063" length="0.062"/>
      </geometry>
    </collision>
    <visual>
      <origin xyz="0 0 0.099" rpy="0 0 0"/>
      <geometry>
        <cylinder radius="0.057" length="0.06"/>
      </geometry>
    </visual>
    <collision>
      <origin xyz="0 0 0.099" rpy="0 0 0"/>
      <geometry>
        <cylinder radius="0.057" length="0.06"/>
      </geometry>
    </collision>
    <visual>
      <origin xyz="0 0 0.156" rpy="0 0 0"/>
      <geometry>
        <cylinder radius="0.053" length="0.06"/>
      </geometry>
    </visual>
    <collision>
      <origin xyz="0 0 0.156" rpy="0 0 0"/>
      <geometry>
        <cylinder radius="0.053" length="0.06"/>
      </geometry>
    </collision>
  </link>
  <joint name="arm_right_6_joint" type="revolute">
    <parent link="arm_right_5_link"/>
    <child link="arm_right_6_link"/>
    <axis xyz="0.000003 0.000003 -1"/>
    <limit effort="6.6" lower="-1.39" upper="1.39" velocity="1.76"/>
    <origin xyz="0 0 0.15" rpy="2.356193 1.570792 -2.356193"/>
  </joint>
  <link name="arm_right_6_link">
    <visual>
      <origin xyz="-0.0409 0 0" rpy="3.141593 -1.570793 3.141593"/>
      <geometry>
        <cylinder radius="0.0226" length="0.013"/>
      </geometry>
    </visual>
    <collision>
      <origin xyz="-0.0409 0 0" rpy="3.141593 -1.570793 3.141593"/>
      <geometry>
        <cylinder radius="0.0226" length="0.013"/>
      </geometry>
    </collision>
  </link>
  <joint name="arm_right_7_joint" type="revolute">
    <parent link="arm_right_6_link"/>
    <child link="arm_right_7_link"/>
    <axis xyz="0.000003 -0.000003 1"/>
    <limit effort="6.6" lower="-2.07" upper="2.07" velocity="1.76"/>
    <origin xyz="0 0 0" rpy="-1.570799 0.000003 1.570799"/>
  </joint>
  <link name="arm_right_7_link">
    <visual>
      <origin xyz="0 0 0.055" rpy="0 0 0"/>
      <geometry>
        <cylinder radius="0.0225" length="0.0157"/>
      </geometry>
    </visual>
    <collision>
      <origin xyz="0 0 0.055" rpy="0 0 0"/>
      <geometry>
        <cylinder radius="0.0225" length="0.0157"/>
      </geometry>
    </collision>
  </link>
  <link name="wrist_right_ft_tool_link">
    <visual>
      <origin xyz="0 0 0.055" rpy="0 1.57 0"/>
      <geometry>
        <cylinder radius="0.0253" length="0.011"/>
      </geometry>
    </visual>
    <collision>
      <origin xyz="0 0 0.055" rpy="0 1.57 0"/>
      <geometry>
        <cylinder radius="0.0253" length="0.011"/>
      </geometry>
    </collision>
  </link>
  <joint name="arm_right_7_link_wrist_right_ft_tool_link_joint" type="fixed">
    <parent link="arm_right_7_link"/>
    <child link="wrist_right_ft_tool_link"/>
    <origin xyz="0 0 0.067725" rpy="2.356193 -1.570792 2.356193"/>
  </joint>
  <link name="right">
    <visual>
      <origin xyz="0 0 0" rpy="0 0 0"/>
      <geometry>
        <cylinder radius="0.0227" length="0.028"/>
      </geometry>
    </visual>
    <collision>
      <origin xyz="0 0 0" rpy="0 0 0"/>
      <geometry>
        <cylinder radius="0.0227" length="0.028"/>
      </geometry>
    </collision>
    <visual>
      <origin xyz="0.029 -0.01834 -0.046" rpy="0 0 0.59"/>
      <geometry>
        <box size="0.04 0.0217 0.105"/>
      </geometry>
    </visual>
    <collision>
      <origin xyz="0.029 -0.01834 -0.046" rpy="0 0 0.59"/>
      <geometry>
        <box size="0.04 0.0217 0.105"/>
      </geometry>
    </collision>
    <visual>
      <origin xyz="-0.029 0.01834 -0.046" rpy="0 0 0.59"/>
      <geometry>
        <box size="0.04 0.0217 0.105"/>
      </geometry>
    </visual>
    <collision>
      <origin xyz="-0.029 0.01834 -0.046" rpy="0 0 0.59"/>
      <geometry>
        <box size="0.04 0.0217 0.105"/>
      </geometry>
    </collision>
    <visual>
      <origin xyz="0.0172 0.0109 -0.046" rpy="3.141593 -1.570793 3.141593"/>
      <geometry>
        <box size="0.106 0.056 0.071"/>
      </geometry>
    </visual>
    <collision>
      <origin xyz="0.0172 0.0109 -0.046" rpy="3.141593 -1.570793 3.141593"/>
      <geometry>
        <box size="0.106 0.056 0.071"/>
      </geometry>
    </collision>
    <visual>
      <origin xyz="-0.0172 -0.0109 -0.046" rpy="3.141593 -1.570793 3.141593"/>
      <geometry>
        <box size="0.106 0.056 0.071"/>
      </geometry>
    </visual>
    <collision>
      <origin xyz="-0.0172 -0.0109 -0.046" rpy="3.141593 -1.570793 3.141593"/>
      <geometry>
        <box size="0.106 0.056 0.071"/>
      </geometry>
    </collision>
  </link>
  <joint name="wrist_right_ft_tool_link_right_joint" type="fixed">
    <parent link="wrist_right_ft_tool_link"/>
    <child link="right"/>
    <origin xyz="0.016 0 0" rpy="-2.356193 1.570792 0.785393"/>
  </joint>
  <joint name="right_hand_gripper_finger_joint::right" type="prismatic">
    <parent link="right"/>
    <child link="gripper_right_finger_link_3"/>
    <axis xyz="1 0 0"/>
    <origin xyz="0 0 0" rpy="0 0 0"/>
    <limit effort="16" lower="0" upper="0.045" velocity="0.05"/>
  </joint>
  <link name="gripper_right_finger_link_3">
    <visual>
      <origin xyz="0.004 0 -0.1741" rpy="0 0 0"/>
      <geometry>
        <box size="0.0076 0.05091 0.08982"/>
      </geometry>
    </visual>
    <collision>
      <origin xyz="0.004 0 -0.1741" rpy="0 0 0"/>
      <geometry>
        <box size="0.0076 0.05091 0.08982"/>
      </geometry>
    </collision>
    <visual>
      <origin xyz="0.0049 0.0153 -0.1208" rpy="0 0 0"/>
      <geometry>
        <box size="0.0055 0.0295 0.018"/>
      </geometry>
    </visual>
    <collision>
      <origin xyz="0.0049 0.0153 -0.1208" rpy="0 0 0"/>
      <geometry>
        <box size="0.0055 0.0295 0.018"/>
      </geometry>
    </collision>
    <visual>
      <origin xyz="-0.0085 0.0156 -0.1048" rpy="0 0 0"/>
      <geometry>
        <box size="0.03213 0.02959 0.01487"/>
      </geometry>
    </visual>
    <collision>
      <origin xyz="-0.0085 0.0156 -0.1048" rpy="0 0 0"/>
      <geometry>
        <box size="0.03213 0.02959 0.01487"/>
      </geometry>
    </collision>
  </link>
  <joint name="right_hand_gripper_finger_joint::left" type="prismatic">
    <parent link="right"/>
    <child link="gripper_left_finger_link_4"/>
    <axis xyz="1 0.000093 0"/>
    <origin xyz="0 0 0" rpy="0 0 3.1415"/>
    <limit effort="16" lower="0" upper="0.045" velocity="0.05"/>
  </joint>
  <link name="gripper_left_finger_link_4">
    <visual>
      <origin xyz="0.004 0 -0.1741" rpy="0 0 0"/>
      <geometry>
        <box size="0.0076 0.05091 0.08982"/>
      </geometry>
    </visual>
    <collision>
      <origin xyz="0.004 0 -0.1741" rpy="0 0 0"/>
      <geometry>
        <box size="0.0076 0.05091 0.08982"/>
      </geometry>
    </collision>
    <visual>
      <origin xyz="0.0049 0.0153 -0.1208" rpy="0 0 0"/>
      <geometry>
        <box size="0.0055 0.0295 0.018"/>
      </geometry>
    </visual>
    <collision>
      <origin xyz="0.0049 0.0153 -0.1208" rpy="0 0 0"/>
      <geometry>
        <box size="0.0055 0.0295 0.018"/>
      </geometry>
    </collision>
    <visual>
      <origin xyz="-0.0085 0.0156 -0.1048" rpy="0 0 0"/>
      <geometry>
        <box size="0.03213 0.02959 0.01487"/>
      </geometry>
    </visual>
    <collision>
      <origin xyz="-0.0085 0.0156 -0.1048" rpy="0 0 0"/>
      <geometry>
        <box size="0.03213 0.02959 0.01487"/>
      </geometry>
    </collision>
  </link>
  <link name="cap screw(19)_5">
  </link>
  <joint name="right_cap screw(19)_5_joint" type="fixed">
    <parent link="right"/>
    <child link="cap screw(19)_5"/>
    <origin xyz="0.0415 -0.0029 -0.0004" rpy="3.14159 0 0"/>
  </joint>
  <link name="cap screw(18)_6">
  </link>
  <joint name="right_cap screw(18)_6_joint" type="fixed">
    <parent link="right"/>
    <child link="cap screw(18)_6"/>
    <origin xyz="-0.0415 0.0029 -0.0004" rpy="3.14159 0 0"/>
  </joint>
  <link name="cap screw(17)_7">
  </link>
  <joint name="right_cap screw(17)_7_joint" type="fixed">
    <parent link="right"/>
    <child link="cap screw(17)_7"/>
    <origin xyz="0.0433 0.0315 0.0026" rpy="3.14159 0 0"/>
  </joint>
  <link name="cap screw(16)_8">
  </link>
  <joint name="right_cap screw(16)_8_joint" type="fixed">
    <parent link="right"/>
    <child link="cap screw(16)_8"/>
    <origin xyz="-0.0433 -0.0315 0.0026" rpy="3.14159 0 0"/>
  </joint>
  <link name="cap screw(15)_9">
  </link>
  <joint name="right_cap screw(15)_9_joint" type="fixed">
    <parent link="right"/>
    <child link="cap screw(15)_9"/>
    <origin xyz="0 0.033 0.0026" rpy="3.14159 0 0"/>
  </joint>
  <link name="cap screw(14)_10">
  </link>
  <joint name="right_cap screw(14)_10_joint" type="fixed">
    <parent link="right"/>
    <child link="cap screw(14)_10"/>
    <origin xyz="0 -0.033 0.0026" rpy="3.14159 0 0"/>
  </joint>
  <link name="cap screw(13)_11">
  </link>
  <joint name="right_cap screw(13)_11_joint" type="fixed">
    <parent link="right"/>
    <child link="cap screw(13)_11"/>
    <origin xyz="0.0426 -0.0094 -0.09448" rpy="0 0 0"/>
  </joint>
  <link name="cap screw(12)_12">
  </link>
  <joint name="right_cap screw(12)_12_joint" type="fixed">
    <parent link="right"/>
    <child link="cap screw(12)_12"/>
    <origin xyz="-0.0425 0.0094 -0.0945" rpy="0 0 0"/>
  </joint>
  <link name="cap screw(11)_13">
  </link>
  <joint name="right_cap screw(11)_13_joint" type="fixed">
    <parent link="right"/>
    <child link="cap screw(11)_13"/>
    <origin xyz="-0.0477 -0.008 -0.0108" rpy="3.141593 1.570793 3.141593"/>
  </joint>
  <link name="cap screw(10)_14">
  </link>
  <joint name="right_cap screw(10)_14_joint" type="fixed">
    <parent link="right"/>
    <child link="cap screw(10)_14"/>
    <origin xyz="-0.0477 -0.008 -0.043" rpy="3.141593 1.570793 3.141593"/>
  </joint>
  <link name="cap screw(9)_15">
  </link>
  <joint name="right_cap screw(9)_15_joint" type="fixed">
    <parent link="right"/>
    <child link="cap screw(9)_15"/>
    <origin xyz="-0.0477 -0.008 -0.075" rpy="3.141593 1.570793 3.141593"/>
  </joint>
  <link name="cap screw(8)_16">
  </link>
  <joint name="right_cap screw(8)_16_joint" type="fixed">
    <parent link="right"/>
    <child link="cap screw(8)_16"/>
    <origin xyz="-0.0477 0.008 -0.075" rpy="3.141593 1.570793 3.141593"/>
  </joint>
  <link name="cap screw(7)_17">
  </link>
  <joint name="right_cap screw(7)_17_joint" type="fixed">
    <parent link="right"/>
    <child link="cap screw(7)_17"/>
    <origin xyz="-0.0477 0.008 -0.043" rpy="3.141593 1.570793 3.141593"/>
  </joint>
  <link name="cap screw(6)_18">
  </link>
  <joint name="right_cap screw(6)_18_joint" type="fixed">
    <parent link="right"/>
    <child link="cap screw(6)_18"/>
    <origin xyz="-0.0477 0.008 -0.0108" rpy="3.141593 1.570793 3.141593"/>
  </joint>
  <link name="cap screw(5)_19">
  </link>
  <joint name="right_cap screw(5)_19_joint" type="fixed">
    <parent link="right"/>
    <child link="cap screw(5)_19"/>
    <origin xyz="0.0477 -0.008 -0.0108" rpy="3.141593 -1.570793 3.141593"/>
  </joint>
  <link name="cap screw(4)_20">
  </link>
  <joint name="right_cap screw(4)_20_joint" type="fixed">
    <parent link="right"/>
    <child link="cap screw(4)_20"/>
    <origin xyz="0.0477 -0.008 -0.043" rpy="3.141593 -1.570793 3.141593"/>
  </joint>
  <link name="cap screw(3)_21">
  </link>
  <joint name="right_cap screw(3)_21_joint" type="fixed">
    <parent link="right"/>
    <child link="cap screw(3)_21"/>
    <origin xyz="0.0477 -0.008 -0.075" rpy="3.141593 -1.570793 3.141593"/>
  </joint>
  <link name="cap screw(2)_22">
  </link>
  <joint name="right_cap screw(2)_22_joint" type="fixed">
    <parent link="right"/>
    <child link="cap screw(2)_22"/>
    <origin xyz="0.0477 0.008 -0.075" rpy="3.141593 -1.570793 3.141593"/>
  </joint>
  <link name="cap screw(1)_23">
  </link>
  <joint name="right_cap screw(1)_23_joint" type="fixed">
    <parent link="right"/>
    <child link="cap screw(1)_23"/>
    <origin xyz="0.0477 0.008 -0.043" rpy="3.141593 -1.570793 3.141593"/>
  </joint>
  <link name="cap screw_24">
  </link>
  <joint name="right_cap screw_24_joint" type="fixed">
    <parent link="right"/>
    <child link="cap screw_24"/>
    <origin xyz="0.0477 0.008 -0.0108" rpy="3.141593 -1.570793 3.141593"/>
  </joint>
</robot>
